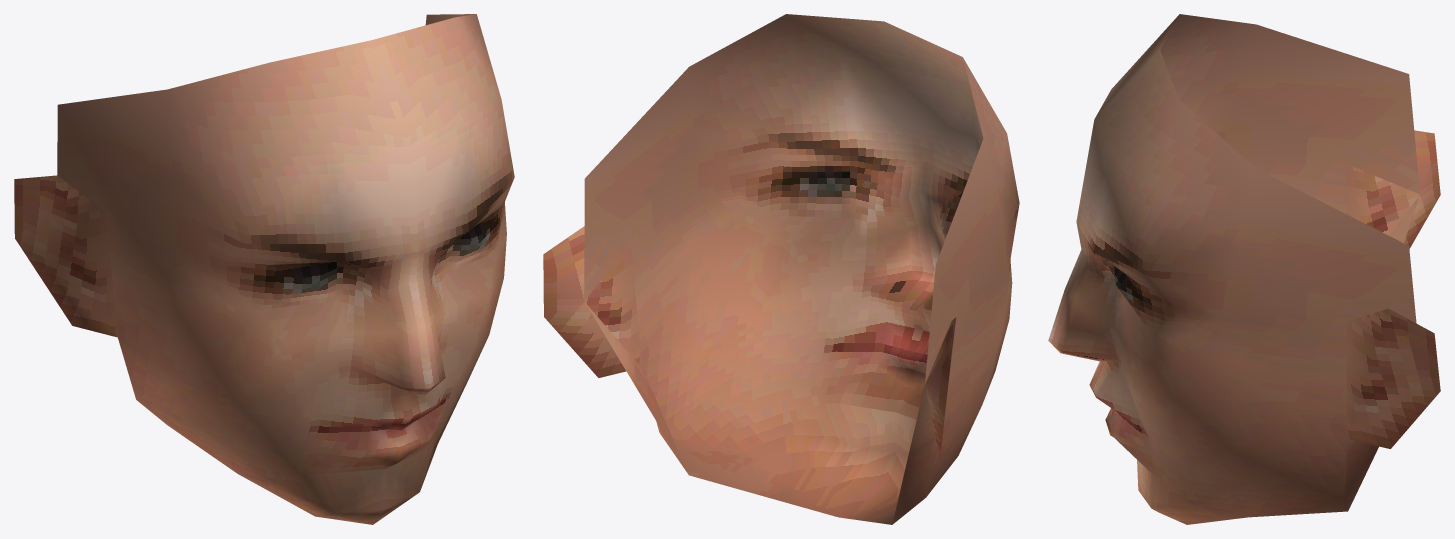
The picture shows the model from 3 angles, left to right: view 1: azimuth 30°, elevation 25°; view 2: azimuth 150°, elevation 25°; view 3: azimuth 270°, elevation 25°; orthographic projection. The views are drawn at different scales.
Parts seen in each view (by area): view 1: mesh00; view 2: mesh00; view 3: mesh00.
Part boxes in pixels (left/top/right/bottom): mesh00: left=14, top=14, right=514, bottom=524; mesh00: left=543, top=14, right=1019, bottom=524; mesh00: left=1048, top=14, right=1440, bottom=524.
Size of the model in its own units: 17.18 by 18.68 by 14.26.
